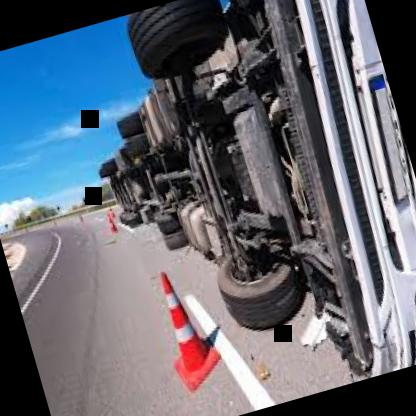accident: (51, 0, 416, 416)
